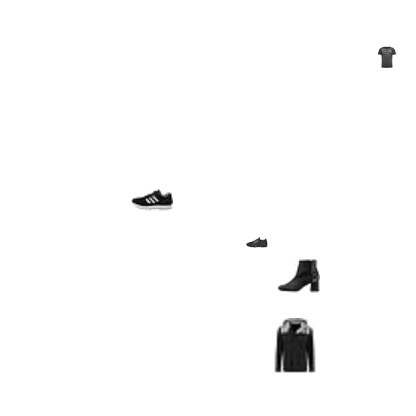Ankle_boot: (278, 255, 320, 297)
Coat: (267, 318, 323, 374)
Sneaker: (131, 179, 173, 221), (246, 231, 268, 253)
T-shirt/top: (376, 46, 398, 68)
